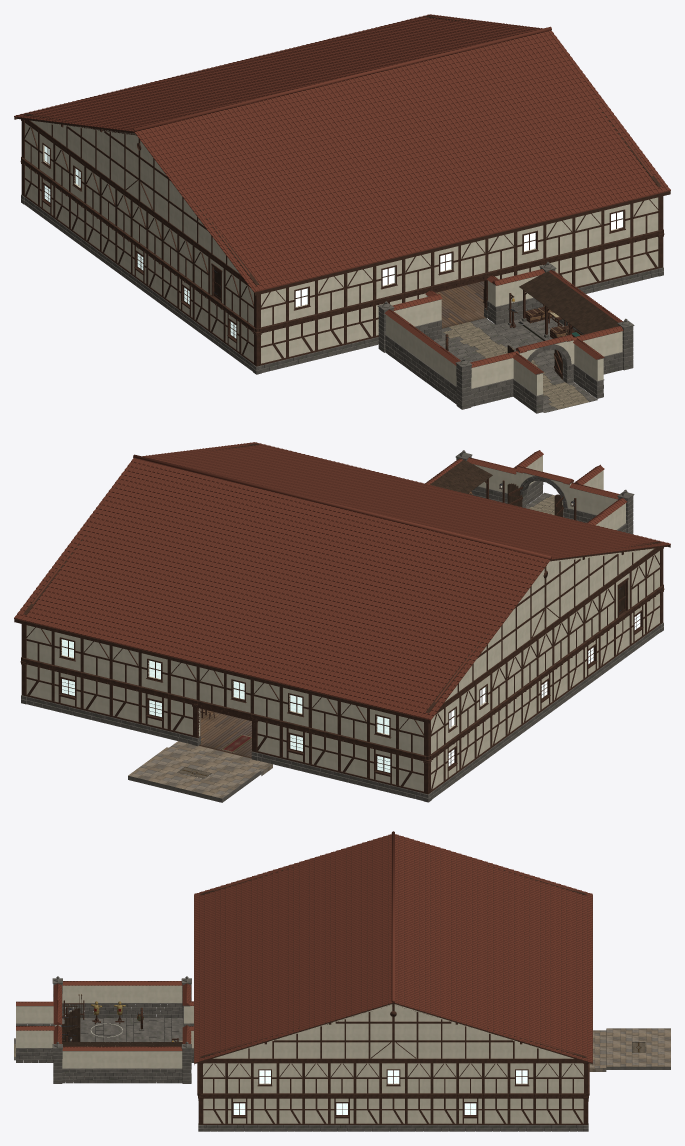
Rendered from guild-ingame.glb.
3 views of the same model, one above another, from view 1: azimuth 30°, elevation 25°; view 2: azimuth 150°, elevation 25°; view 3: azimuth 270°, elevation 25° (orthographic). The views are drawn at different scales.
Visible parts, largest first — view 1: RF01_HallRoof, Wall-North-East, Wall-North-West, YD01_Wall_4m (×5), RF02_GableEnd, Wall-East-2, Wall-East-1, Wall-East-3, YD02_Wall_3m (×4), YD08_CoveredWalkRoof, Lintel-North, LightCell-0-Floor-Entry-Yard-v006-6 (+8 smaller); view 2: RF01_HallRoof, Wall-South-East, Wall-South-West, RF02_GableEnd, Wall-East-2, Wall-East-3, Wall-East-1, Floor-Vestibule-live, YD01_Wall_4m (×2), Lintel-South, YD02_Wall_3m (×2), YD04_GateSection (+3 smaller); view 3: RF01_HallRoof, RF02_GableEnd, Wall-West-2, Wall-West-1, Wall-West-3, YD02_Wall_3m (×6), YD01_Wall_4m (×2), Floor-Vestibule-live, LightCell-0-Floor-Entry-Yard-v006-12, YD08_CoveredWalkRoof, LightCell-0-Floor-Entry-Yard-v006-11.
Boxes of the visible parts, box(x1,y1,x2,y2) form: RF01_HallRoof: box(14, 14, 670, 295); Wall-North-East: box(253, 252, 433, 374); Wall-North-West: box(484, 196, 664, 318); YD01_Wall_4m (×5): box(392, 269, 623, 406); RF02_GableEnd: box(23, 114, 259, 285); Wall-East-2: box(99, 176, 177, 316); Wall-East-1: box(21, 120, 100, 259); Wall-East-3: box(176, 232, 254, 371); YD02_Wall_3m (×4): box(384, 309, 604, 413); YD08_CoveredWalkRoof: box(519, 271, 618, 334); Lintel-North: box(427, 239, 487, 292); LightCell-0-Floor-Entry-Yard-v006-6: box(482, 318, 562, 378); RF01_HallRoof: box(14, 442, 670, 723); Wall-South-East: box(251, 680, 431, 802); Wall-South-West: box(20, 624, 200, 746); RF02_GableEnd: box(425, 541, 661, 713); Wall-East-2: box(507, 604, 585, 743); Wall-East-3: box(584, 548, 663, 687); Wall-East-1: box(430, 660, 508, 799); Floor-Vestibule-live: box(128, 741, 272, 798); YD01_Wall_4m (×2): box(467, 457, 619, 522); Lintel-South: box(192, 667, 258, 722); YD02_Wall_3m (×2): box(514, 450, 627, 532); YD04_GateSection: box(515, 466, 573, 518); RF01_HallRoof: box(194, 831, 592, 1064); RF02_GableEnd: box(200, 1004, 586, 1061); Wall-West-2: box(329, 1061, 457, 1131); Wall-West-1: box(457, 1061, 585, 1131); Wall-West-3: box(201, 1061, 329, 1131); YD02_Wall_3m (×6): box(16, 981, 182, 1083); YD01_Wall_4m (×2): box(96, 981, 148, 1083); Floor-Vestibule-live: box(589, 1028, 670, 1071); LightCell-0-Floor-Entry-Yard-v006-12: box(95, 1019, 171, 1046); YD08_CoveredWalkRoof: box(62, 1042, 182, 1046); LightCell-0-Floor-Entry-Yard-v006-11: box(157, 1020, 183, 1042).
Size of the model in its own units: 30.92 by 11.73 by 50.9.
Materials: 72 (44 with a texture image).
